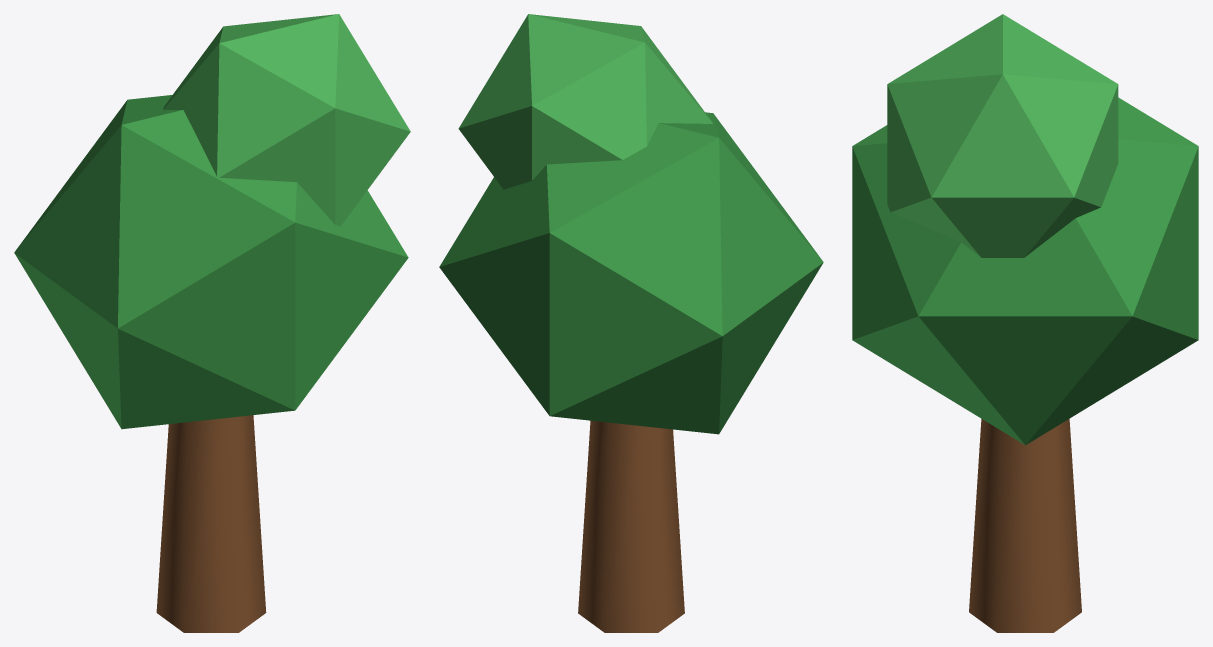
File: tree.glb
3 views of the same model, side by side, from view 1: azimuth 30°, elevation 25°; view 2: azimuth 150°, elevation 25°; view 3: azimuth 270°, elevation 25° (orthographic). The views are drawn at different scales.
Visible parts, largest first — view 1: Tree; view 2: Tree; view 3: Tree.
Part boxes in pixels (x1=…): Tree: x1=14, y1=14, x2=410, y2=632; Tree: x1=439, y1=14, x2=823, y2=632; Tree: x1=852, y1=14, x2=1198, y2=632.
Bounding box in the file's own units: 1.58 × 2.91 × 1.53.
